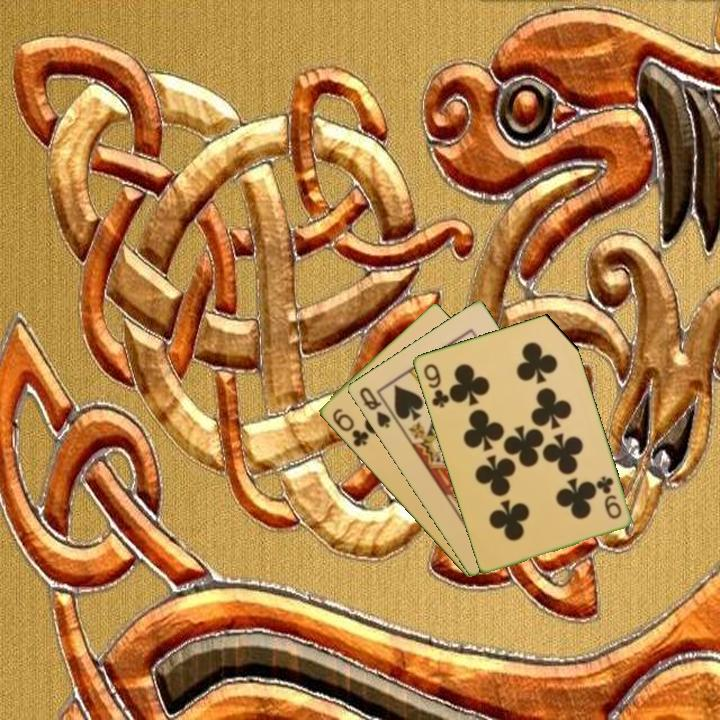6c: (328, 405, 371, 450)
9c: (420, 360, 452, 411), (593, 472, 624, 521)
Qs: (355, 383, 393, 431)
